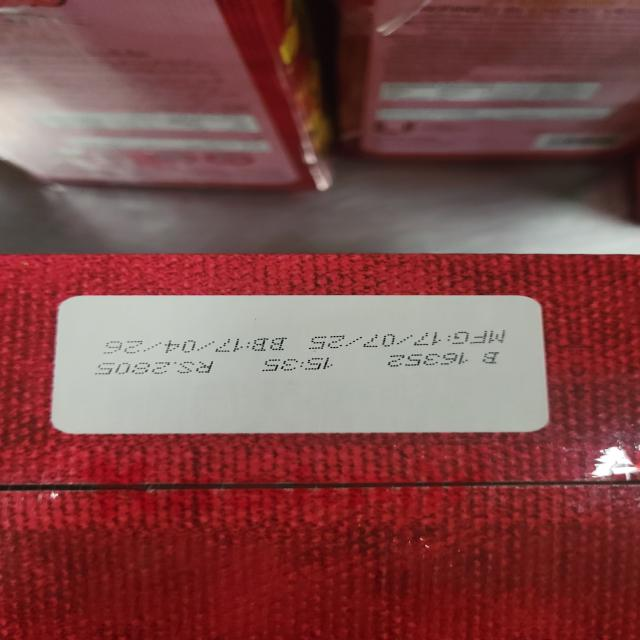BB: (80, 332, 290, 354)
Batch: (380, 350, 510, 367)
MFG: (301, 331, 510, 349)
RS: (91, 362, 216, 376)
TimeStamp: (247, 357, 343, 374)
